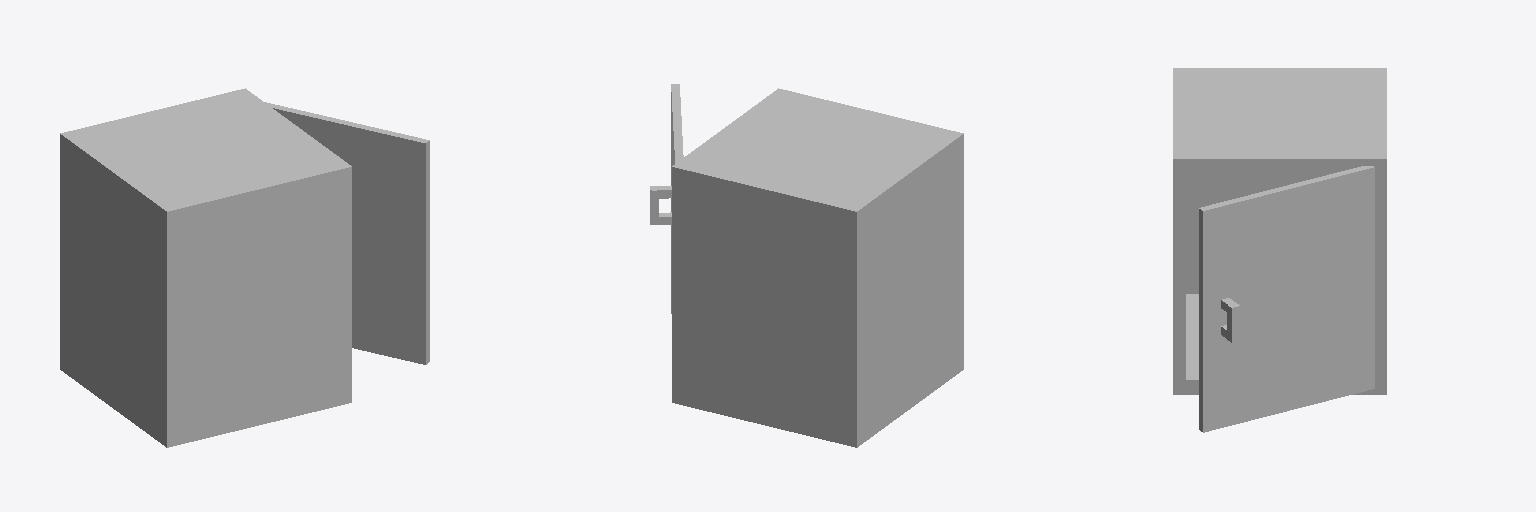
Rendered from a cupboard with a trash can.obj.
3 renders of one model, left to right at view 1: azimuth 30°, elevation 25°; view 2: azimuth 150°, elevation 25°; view 3: azimuth 270°, elevation 25°, orthographic.
Parts seen in each view (by area): view 1: Cube, Cube.001; view 2: Cube, Cube.001; view 3: Cube.001, Cube.
Part boxes in pixels (left/top/right/bottom): Cube: left=60, top=88, right=351, bottom=447; Cube.001: left=265, top=102, right=429, bottom=364; Cube: left=672, top=88, right=963, bottom=447; Cube.001: left=671, top=84, right=683, bottom=313; Cube.001: left=1199, top=166, right=1374, bottom=432; Cube: left=1173, top=68, right=1386, bottom=394.
Bounding box in the file's own units: 3.07 × 2.44 × 2.